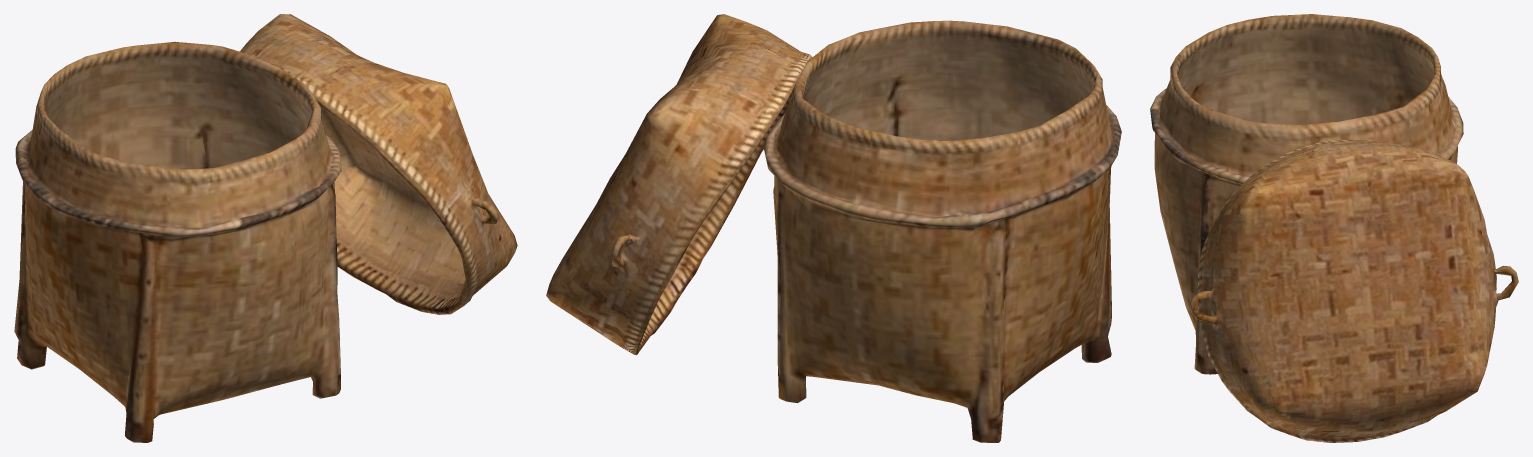
Rendered from wicker_basket_02.glb.
3 views of the same model, side by side, from view 1: azimuth 30°, elevation 25°; view 2: azimuth 150°, elevation 25°; view 3: azimuth 270°, elevation 25° (orthographic). The views are drawn at different scales.
Visible parts, largest first — view 1: wicker_basket_02; view 2: wicker_basket_02; view 3: wicker_basket_02.
Boxes of the visible parts, left/top/right/bottom form: wicker_basket_02: left=14, top=14, right=517, bottom=442; wicker_basket_02: left=546, top=14, right=1121, bottom=442; wicker_basket_02: left=1150, top=14, right=1518, bottom=442.
Bounding box in the file's own units: 0.3467 × 0.2003 × 0.2541.
Materials: 1 (1 with a texture image).
